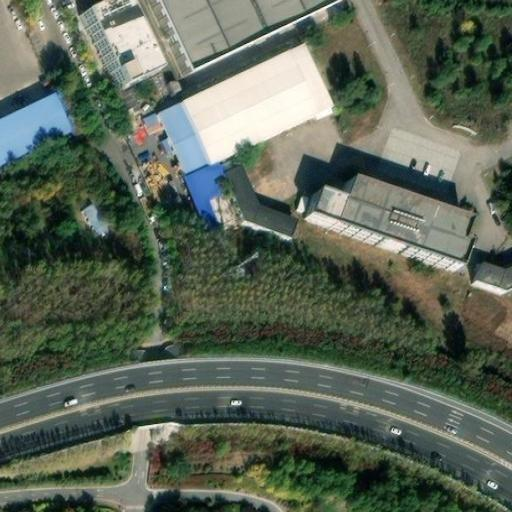building: (145, 42, 334, 175), (316, 173, 477, 262), (80, 0, 158, 89), (224, 163, 301, 239), (0, 96, 73, 165), (185, 159, 226, 224), (82, 201, 115, 241)
